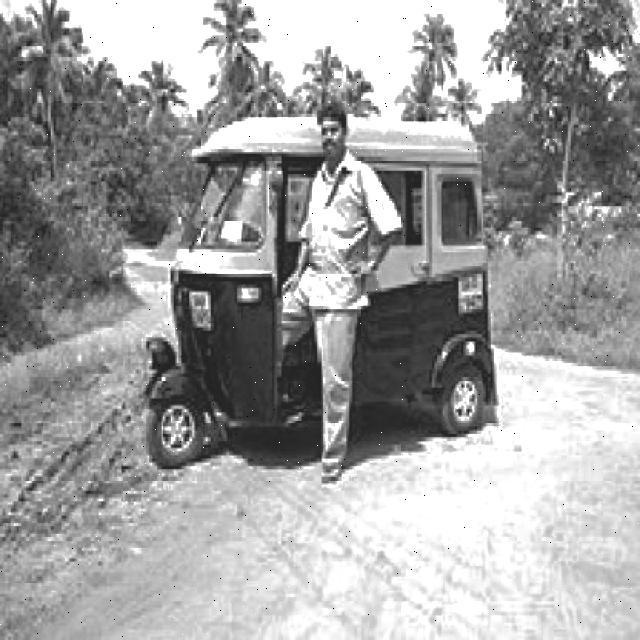Auto-Rickshaw: (137, 108, 489, 452)
